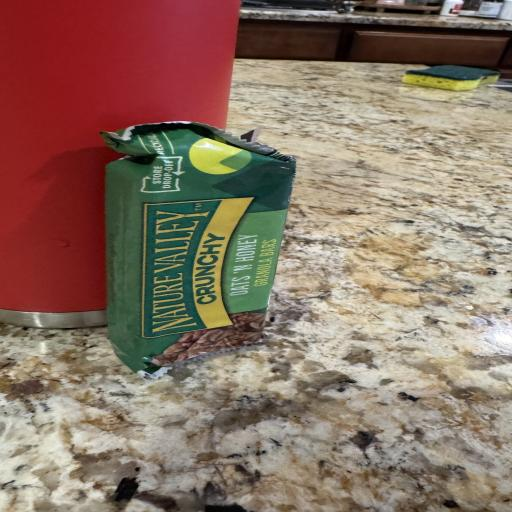granola: (102, 122, 295, 376)
